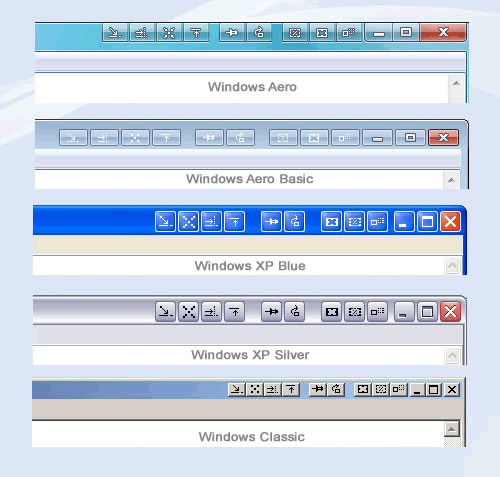close: (418, 21, 468, 42), (428, 128, 459, 144)
